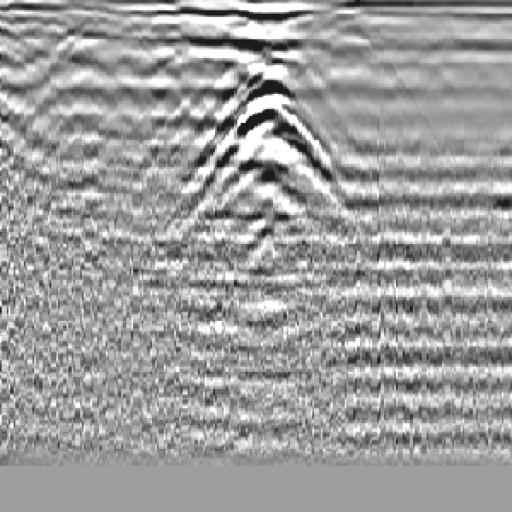metalic: (171, 49, 369, 250)
